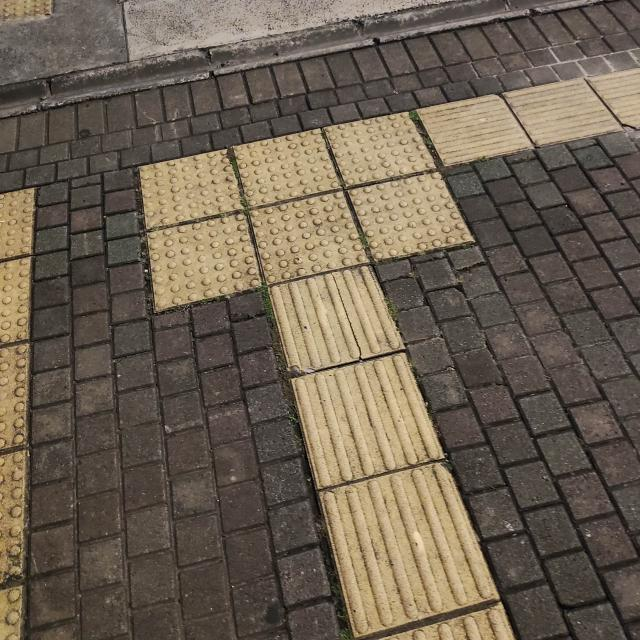kanan: (201, 96, 575, 320)
